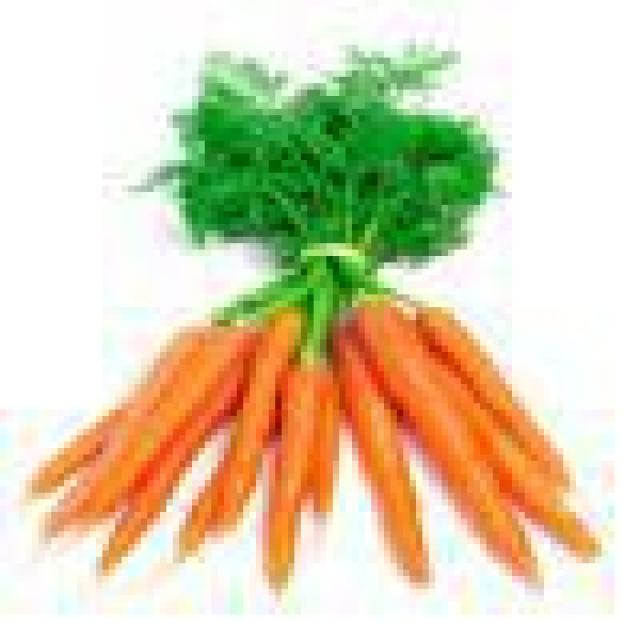Fresh_Carrot: (26, 47, 628, 589)
